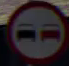No overtake: (4, 3, 64, 55)
